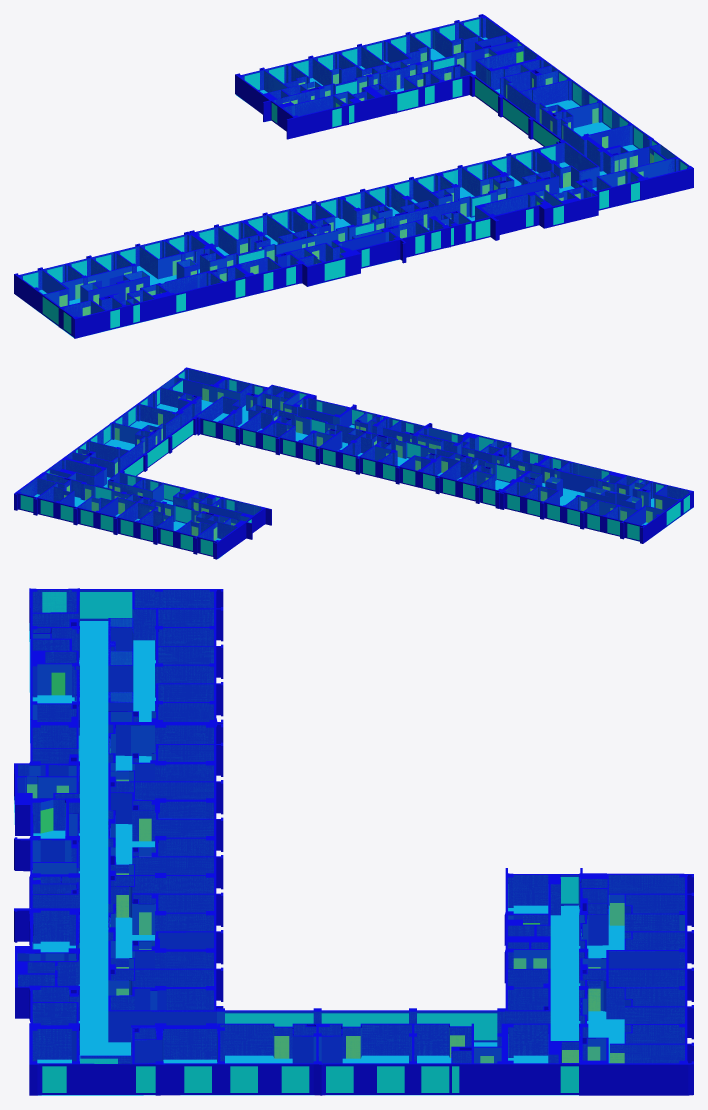
File: floor_5.gltf
3 views of the same model, one above another, from view 1: azimuth 30°, elevation 25°; view 2: azimuth 150°, elevation 25°; view 3: azimuth 270°, elevation 25° (orthographic). The views are drawn at different scales.
Parts seen in each view (by area): view 1: group_solid_mesh, Room_5_29112_-15960, group_windows_mesh, group_door_mesh, Room_5_40951_-11076, group_ground_mesh, Room_5_23702_-10740, Room_5_5484_-11099, Room_5_66540_-20408, Room_5_59909_-51645, Room_5_66544_-29470, Room_5_41896_-51885 (+14 smaller); view 2: group_solid_mesh, Room_5_29112_-15960, group_windows_mesh, group_door_mesh, group_ground_mesh, Room_5_40951_-11076, Room_5_23702_-10740, Room_5_5484_-11099, Room_5_66540_-20408, Room_5_59909_-51645, Room_5_66544_-29470, Room_5_41896_-51885 (+15 smaller); view 3: group_solid_mesh, Room_5_29112_-15960, group_ground_mesh, group_windows_mesh, Room_5_40951_-11076, Room_5_23702_-10740, group_door_mesh, Room_5_5484_-11099, Room_5_59909_-51645, Room_5_66540_-20408, Room_5_66544_-29470, Room_5_41896_-51885 (+35 smaller).
Part boxes in pixels (<box>): group_solid_mesh: <box>14,14,693,338</box>; Room_5_29112_-15960: <box>45,48,665,309</box>; group_windows_mesh: <box>23,19,687,333</box>; group_door_mesh: <box>59,44,653,315</box>; Room_5_40951_-11076: <box>393,156,534,205</box>; group_ground_mesh: <box>28,37,639,337</box>; Room_5_23702_-10740: <box>309,186,412,234</box>; Room_5_5484_-11099: <box>198,215,290,255</box>; Room_5_66540_-20408: <box>563,103,628,135</box>; Room_5_59909_-51645: <box>402,29,482,64</box>; Room_5_66544_-29470: <box>522,81,598,109</box>; Room_5_41896_-51885: <box>285,58,377,86</box>; group_solid_mesh: <box>14,367,693,559</box>; Room_5_29112_-15960: <box>69,380,678,520</box>; group_windows_mesh: <box>20,371,689,555</box>; group_door_mesh: <box>51,388,662,540</box>; group_ground_mesh: <box>34,400,692,558</box>; Room_5_40951_-11076: <box>242,411,358,450</box>; Room_5_23702_-10740: <box>343,436,453,465</box>; Room_5_5484_-11099: <box>441,460,525,489</box>; Room_5_66540_-20408: <box>114,405,178,428</box>; Room_5_59909_-51645: <box>55,480,129,506</box>; Room_5_66544_-29470: <box>90,423,142,449</box>; Room_5_41896_-51885: <box>151,502,215,530</box>; group_solid_mesh: <box>14,588,693,1095</box>; Room_5_29112_-15960: <box>33,590,584,1055</box>; group_ground_mesh: <box>14,621,624,1095</box>; group_windows_mesh: <box>32,592,582,1092</box>; Room_5_40951_-11076: <box>111,876,213,968</box>; Room_5_23702_-10740: <box>111,793,213,874</box>; group_door_mesh: <box>27,673,624,1063</box>; Room_5_5484_-11099: <box>111,725,213,780</box>; Room_5_59909_-51645: <box>583,980,684,1062</box>; Room_5_66540_-20408: <box>220,1025,315,1062</box>; Room_5_66544_-29470: <box>319,1025,411,1062</box>; Room_5_41896_-51885: <box>583,895,684,957</box>.
Size of the model in its own units: 99099 by 3000 by 59799.
